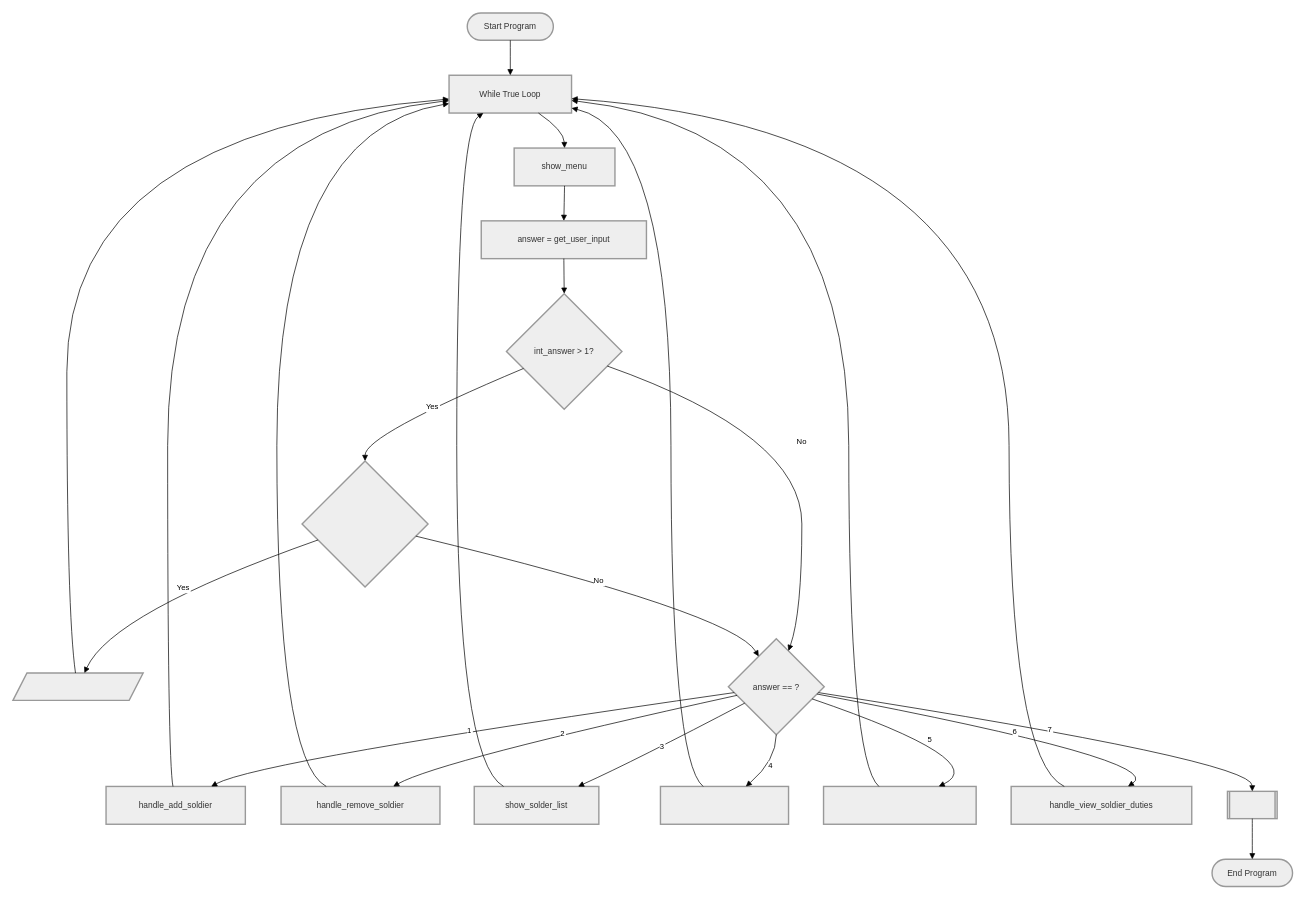
Image size: 1305x899. Some labels were removed from this diagram. Here are the shapes that lost their labels. From the top down, the box of each, then its label:
(301, 460, 428, 587): len_soldiers == 0?
(12, 672, 144, 701): Print 'list is empty'
(659, 785, 789, 825): handle_add_duty
(822, 785, 976, 825): handle_update_status
(1226, 790, 1278, 819): break
